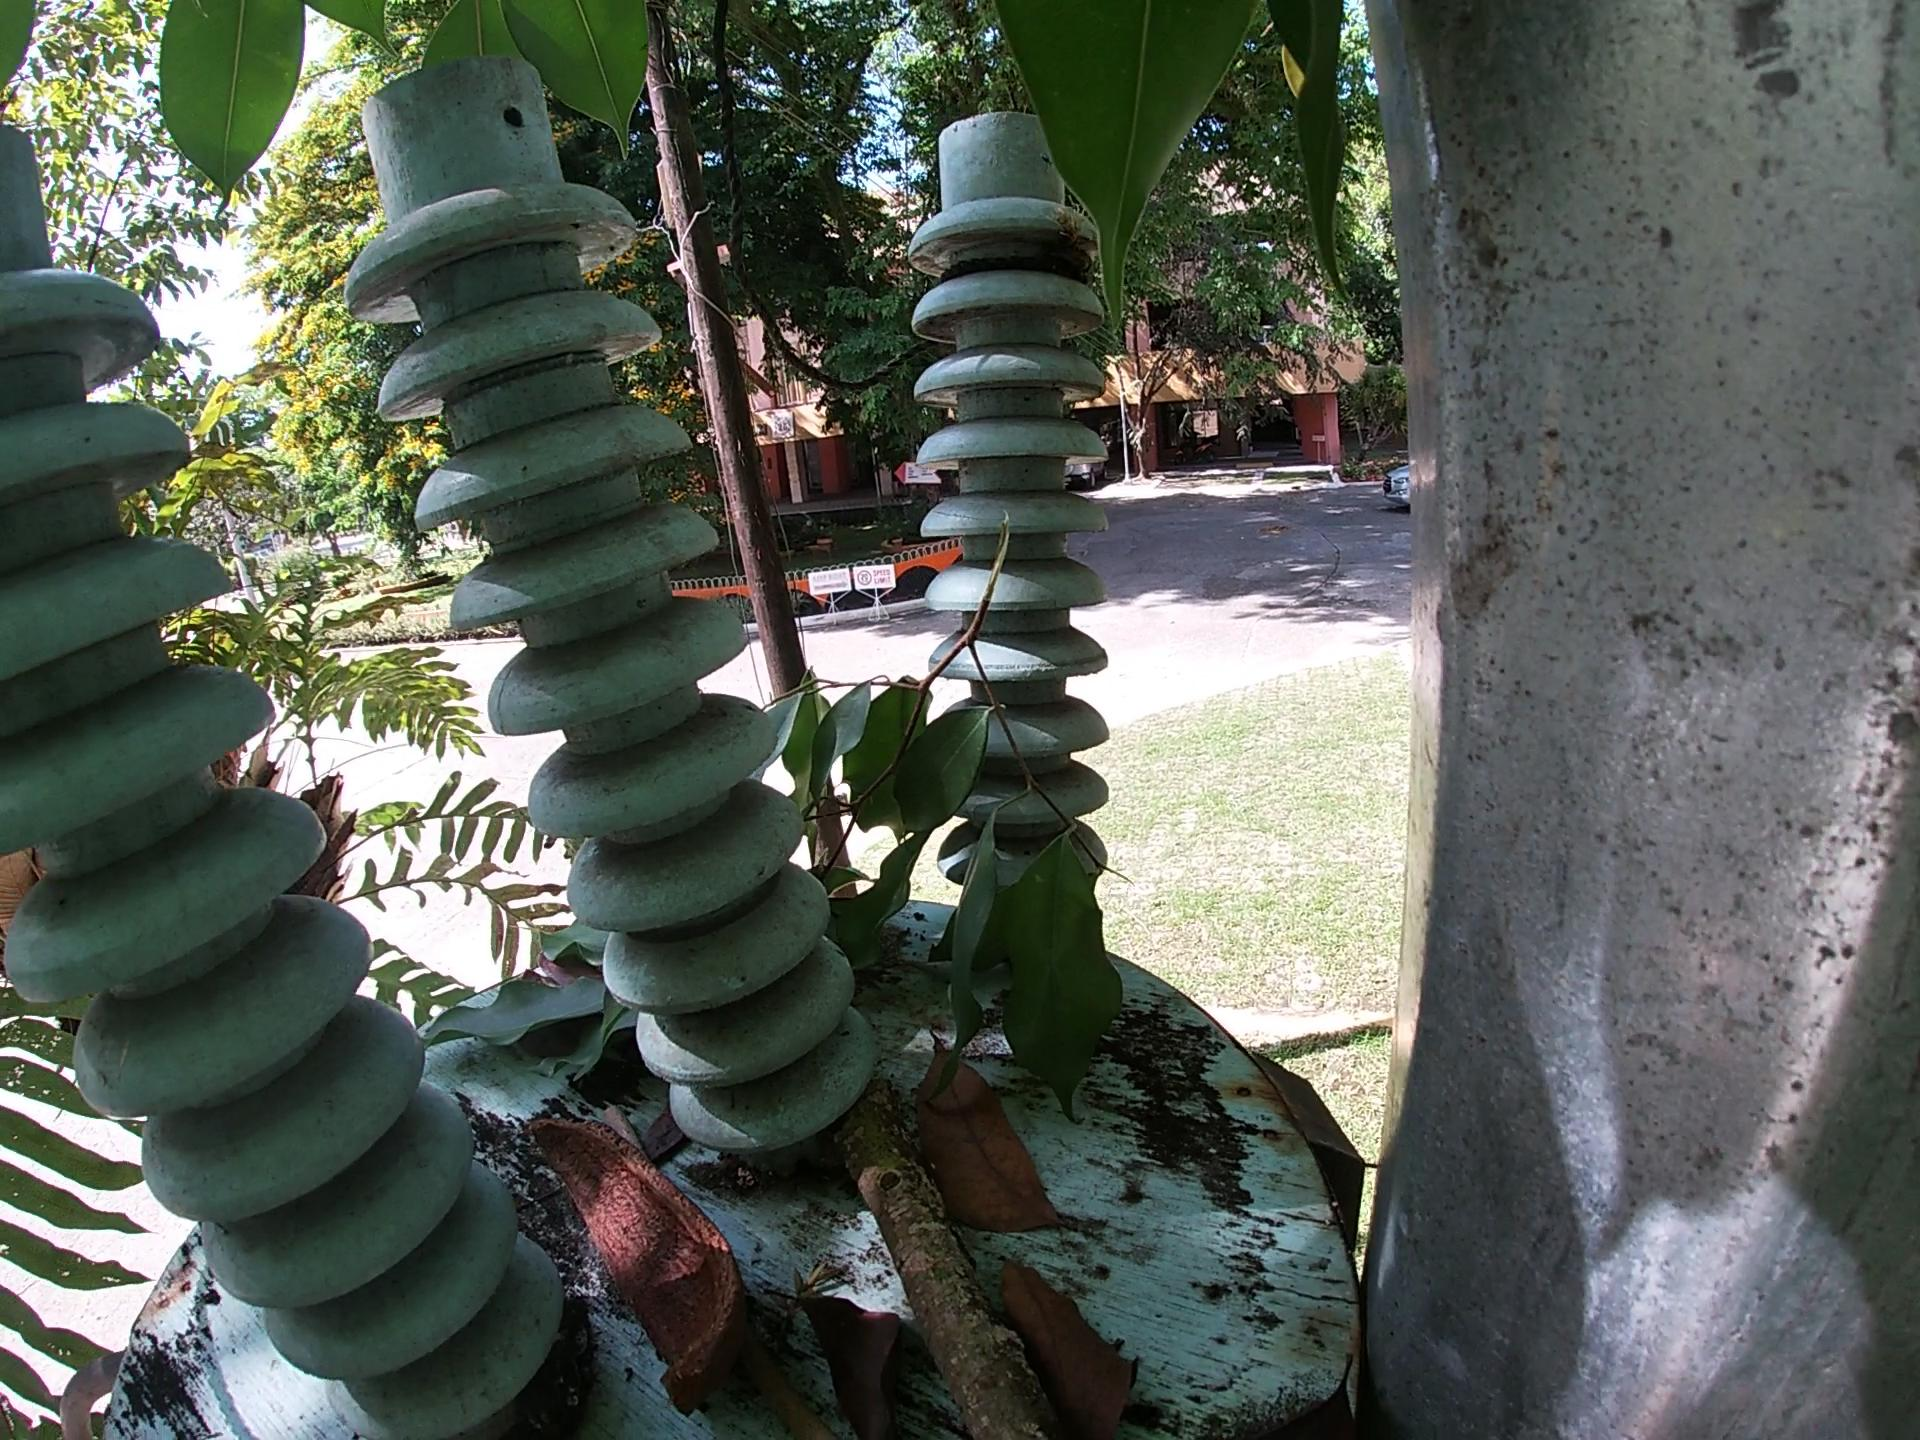branch with leaves: (747, 492, 1137, 1119)
leaf: (434, 917, 667, 1092), (922, 1035, 1072, 1251), (1001, 1258, 1147, 1413), (795, 1272, 934, 1410)
mahogany fruit: (526, 1109, 753, 1392)
tree branch: (825, 1101, 1030, 1429), (596, 1103, 639, 1148)
